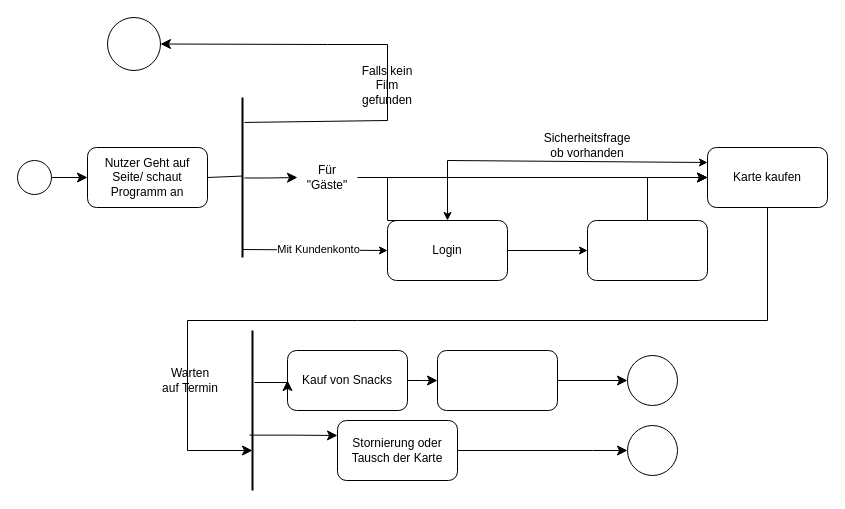
Some shapes in this 845 by 509 pixel diagram are drawn without their labels. Here are the shapes that lost their labels. From the top down, the centre of each, then its label:
At point 647,250: "Dashbpoard".
At point 497,380: "Schauen des Films".
